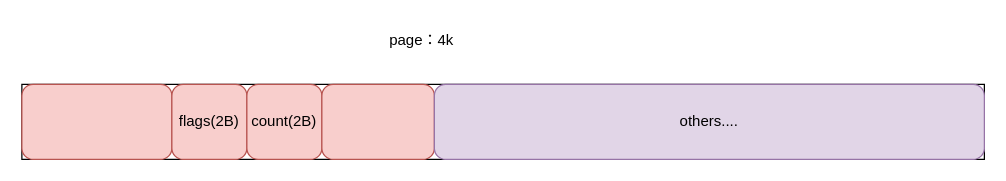
The diagram is 1006 pixels wide and 181 high, and some of its shapes have lost their labels. The shapes that lost their labels are listed below. From the top down, each one's box as (x1, y1, x2, y2) in pixels, then its label:
(21, 83, 172, 159): pageId (8B)
(321, 83, 434, 159): overflow(4B)
